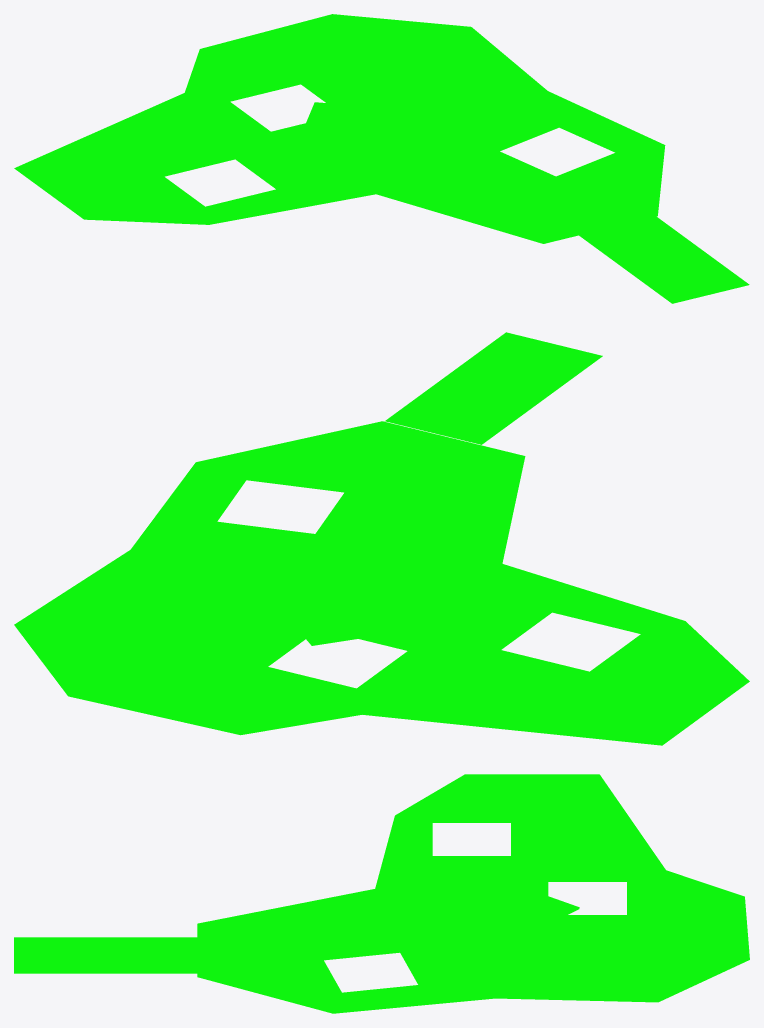
Rendered from s03a_nb2-floor.glb.
3 views of the same model, one above another, from view 1: azimuth 30°, elevation 25°; view 2: azimuth 150°, elevation 25°; view 3: azimuth 270°, elevation 25° (orthographic). The views are drawn at different scales.
Parts seen in each view (by area): view 1: collision_floor-colonly; view 2: collision_floor-colonly; view 3: collision_floor-colonly.
Boxes of the visible parts, bbox=[...] form: collision_floor-colonly: bbox=[14, 14, 749, 303]; collision_floor-colonly: bbox=[14, 332, 749, 745]; collision_floor-colonly: bbox=[14, 774, 749, 1013].
Bounding box in the file's own units: 39.57 × 0.1992 × 51.37.
